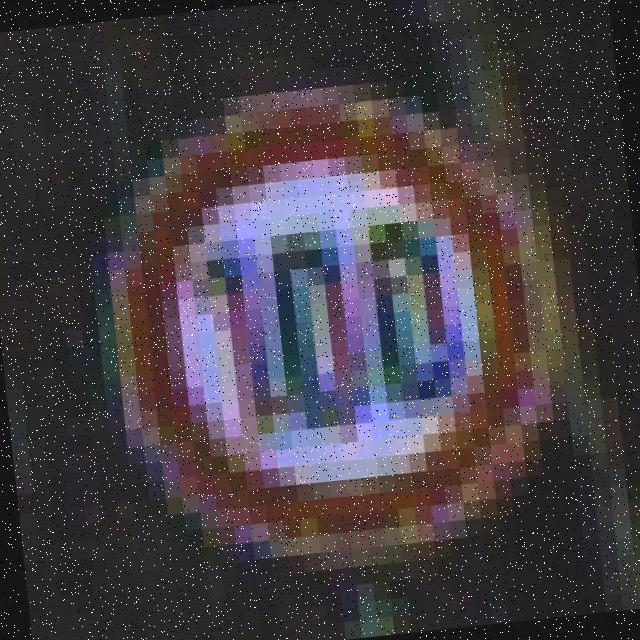Ograniczenie predkosci do 100: (108, 81, 554, 567)
